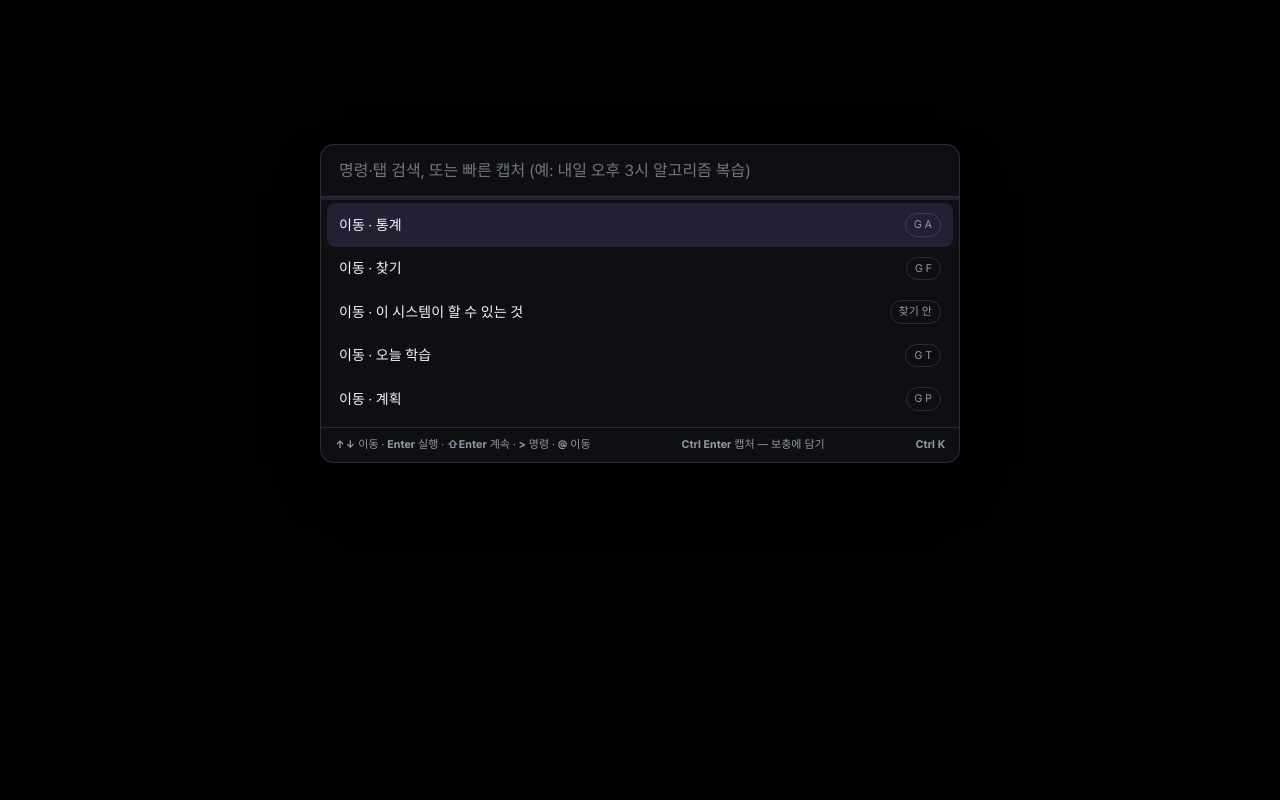
Test: N-1: 동사에서 Esc 는 **한 단계만** 접는다 — 친 검색어를 잃지 않는다
Step 1. Type "변위전류" into the dropdown with placeholder "명령·탭 검색, 또는 빠른 캡처 (예: 내일 오후 3시 알고리즘 복습)" → [640, 171], box [321, 145, 959, 197]
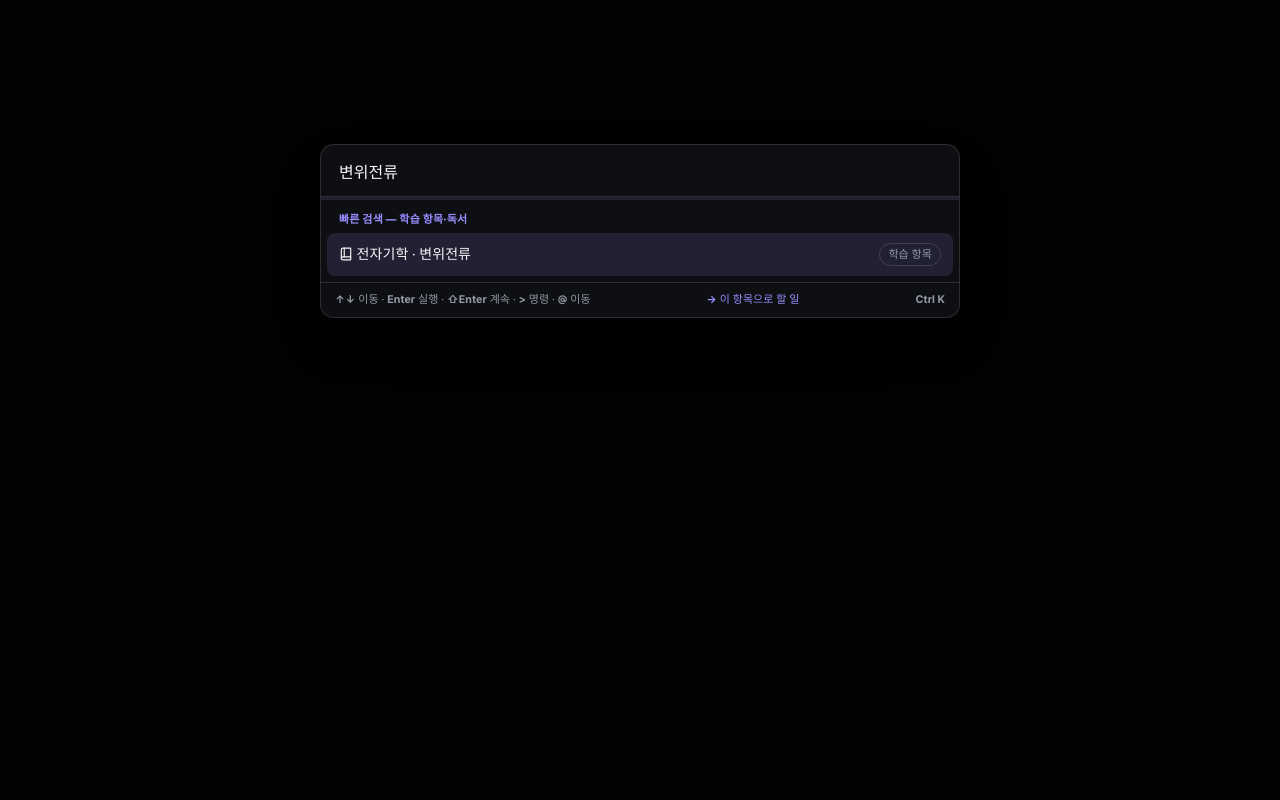
Step 2. Press ArrowRight in the dropdown with placeholder "명령·탭 검색, 또는 빠른 캡처 (예: 내일 오후 3시 알고리즘 복습)", box [321, 145, 959, 197]
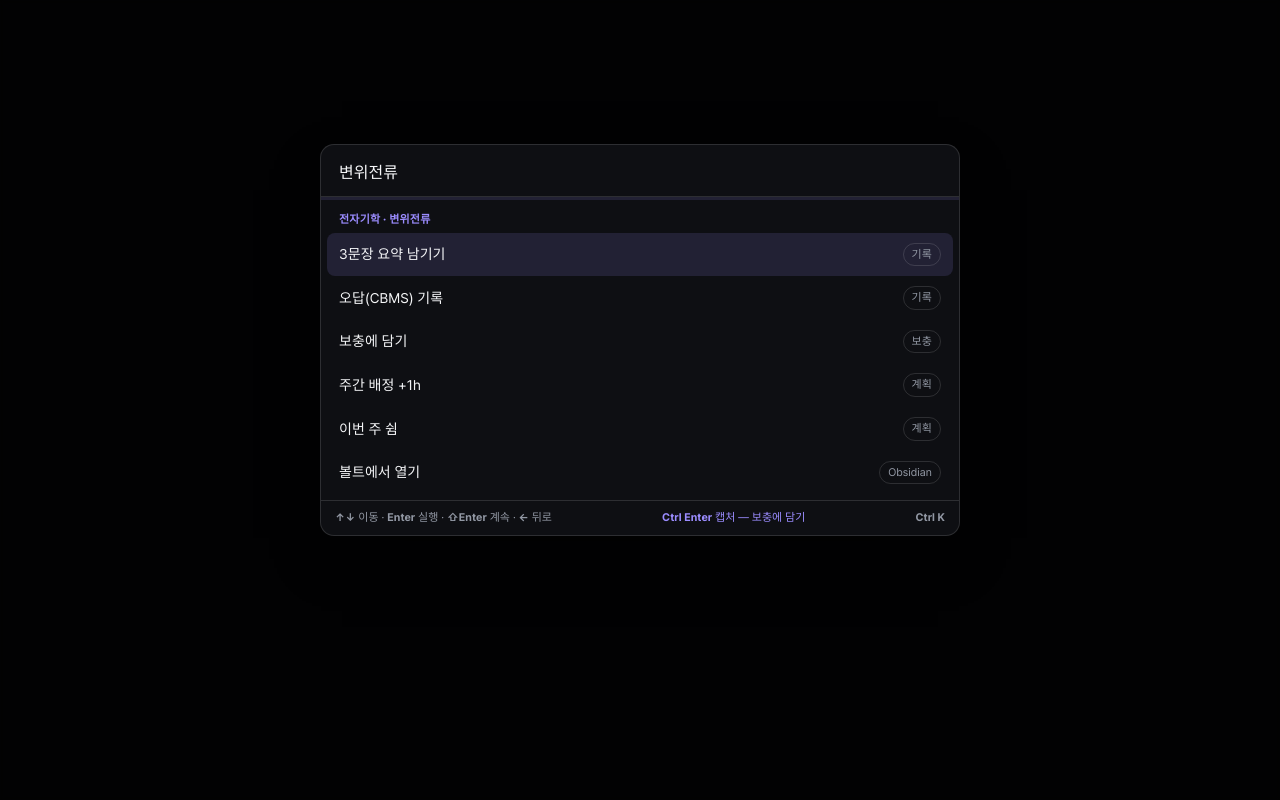
Expected: the text "보충에 담기" is shown, [339, 330, 407, 353]
Step 3. Press Escape in the dropdown with placeholder "명령·탭 검색, 또는 빠른 캡처 (예: 내일 오후 3시 알고리즘 복습)", box [321, 145, 959, 197]
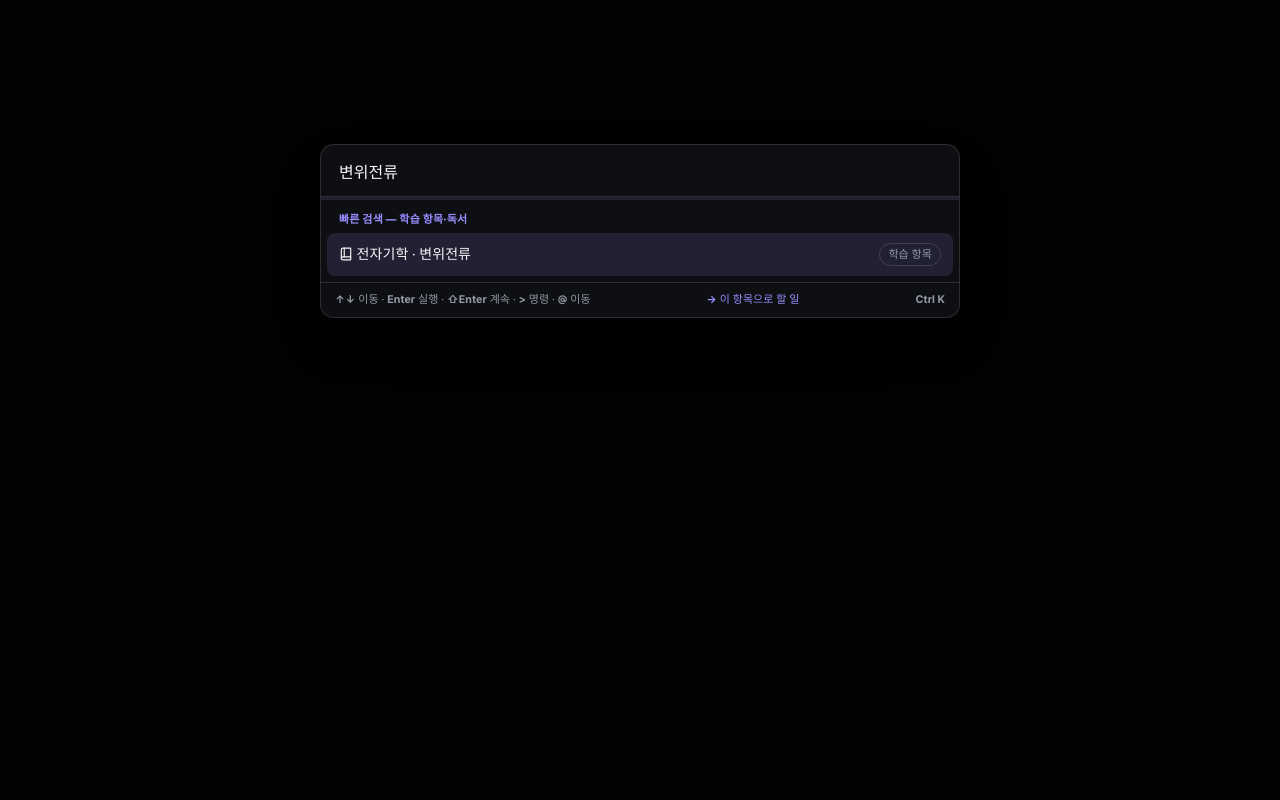
Expected: the option "보충에 담기" is gone
Expected: the text "빠른 검색 — 학습 항목·독서" is shown, [339, 213, 468, 226]
